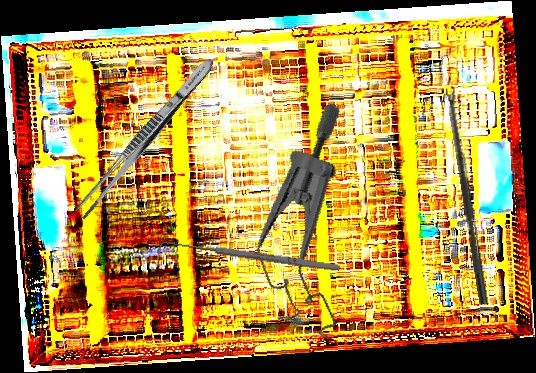Dressing Forceps: (72, 53, 219, 223)
Hook Surgical: (156, 236, 342, 280)
Speculum: (213, 101, 412, 354)
Surgical Spoon: (445, 87, 490, 305)
